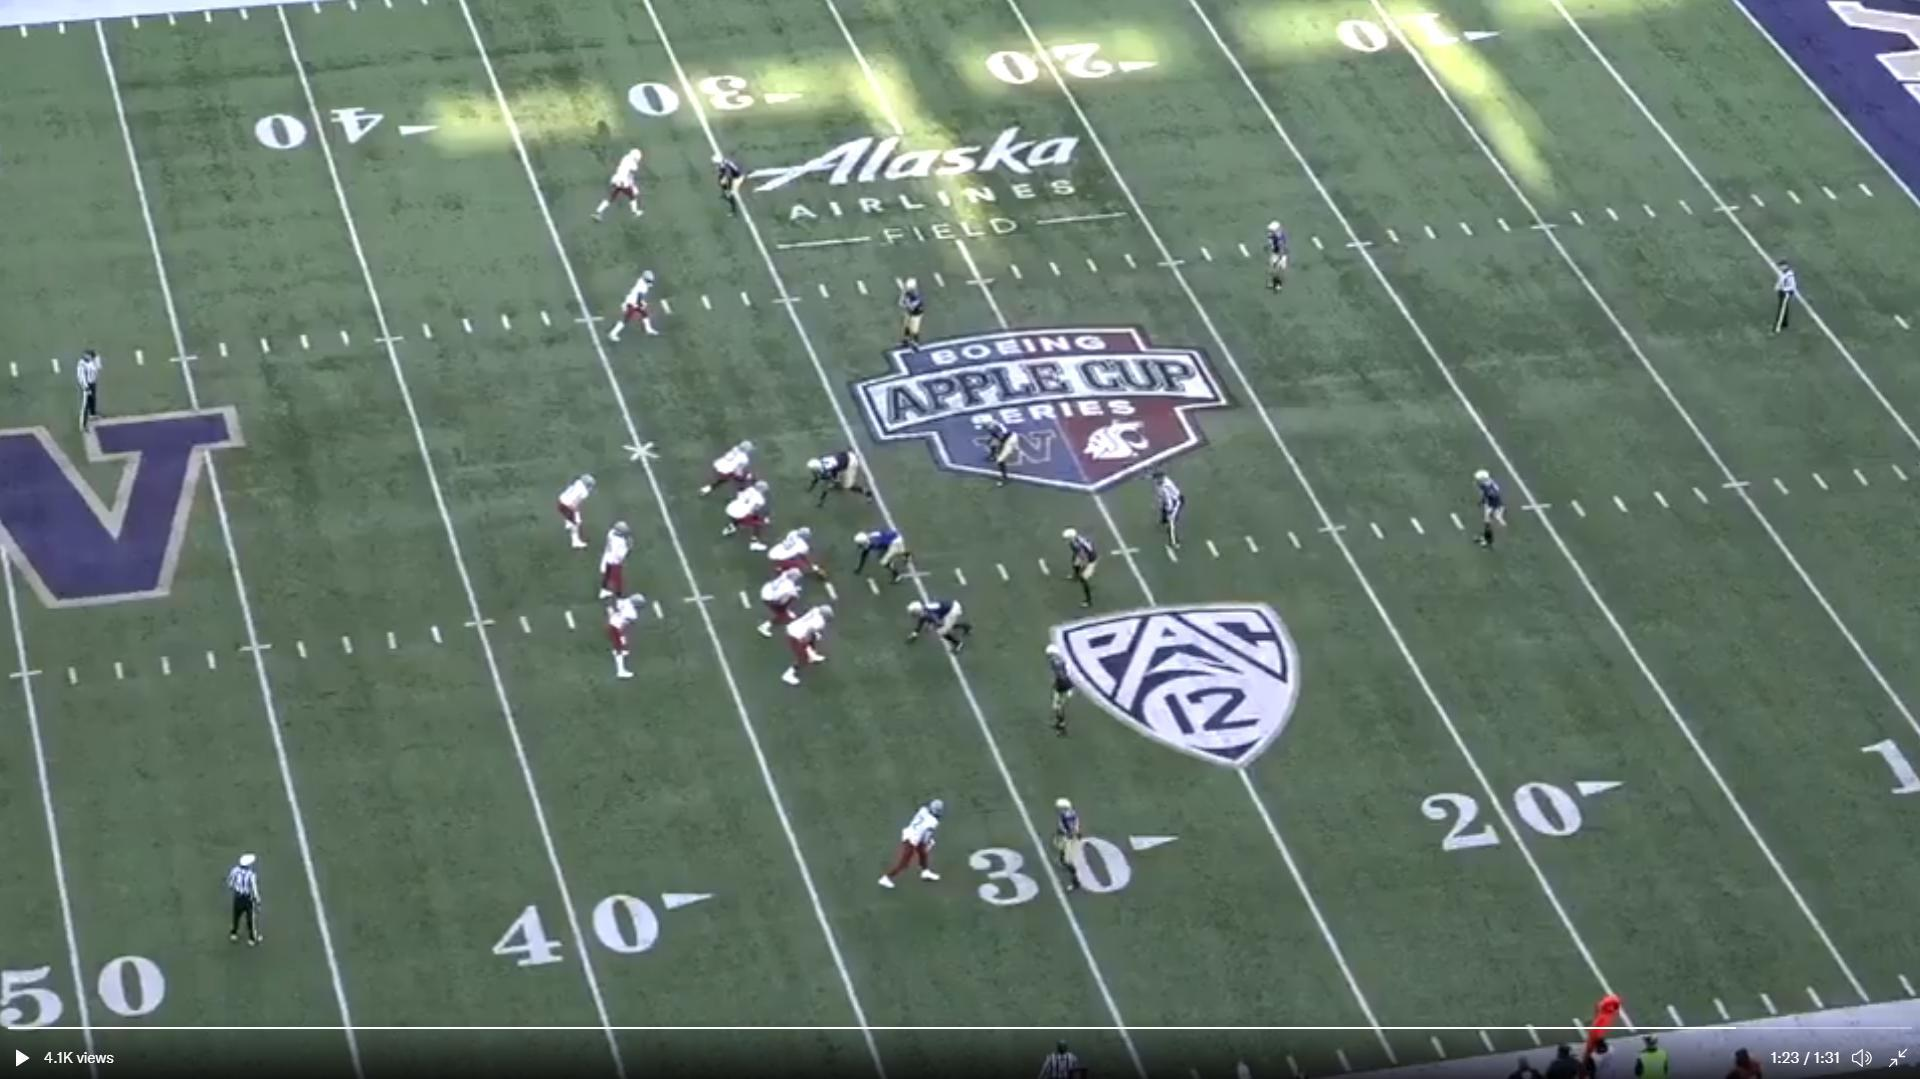defense: (847, 522, 918, 587), (1051, 795, 1096, 894), (905, 596, 975, 656), (1059, 525, 1105, 613), (807, 450, 874, 509), (1042, 641, 1083, 739), (1470, 460, 1510, 554), (889, 274, 930, 361), (982, 406, 1026, 484), (713, 150, 750, 218), (1263, 214, 1292, 295)
oline: (783, 601, 841, 693), (762, 521, 827, 586), (699, 439, 764, 503), (715, 476, 770, 549), (756, 566, 808, 640)
qb: (599, 517, 638, 613)
ref: (222, 851, 268, 952), (1149, 466, 1192, 558), (75, 347, 111, 443), (1771, 253, 1804, 340)
skill: (878, 795, 952, 896), (592, 141, 653, 223), (609, 268, 666, 350), (608, 586, 651, 685), (554, 468, 597, 554)
